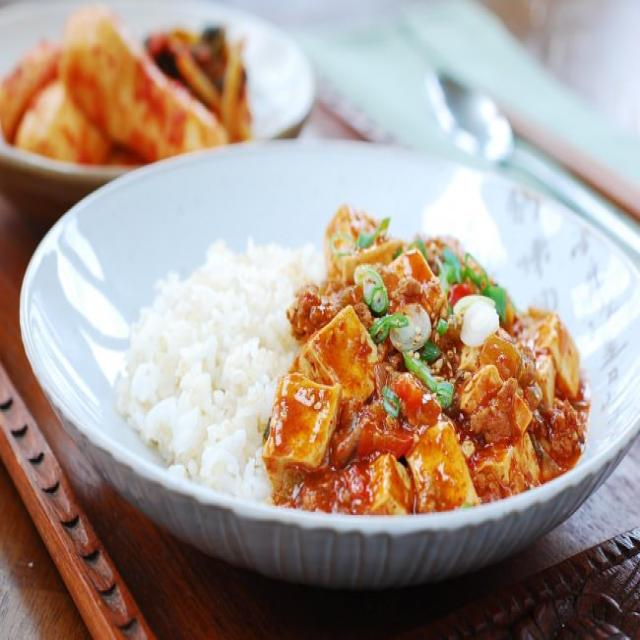com: (115, 241, 320, 503)
dau hu: (262, 206, 590, 513)
